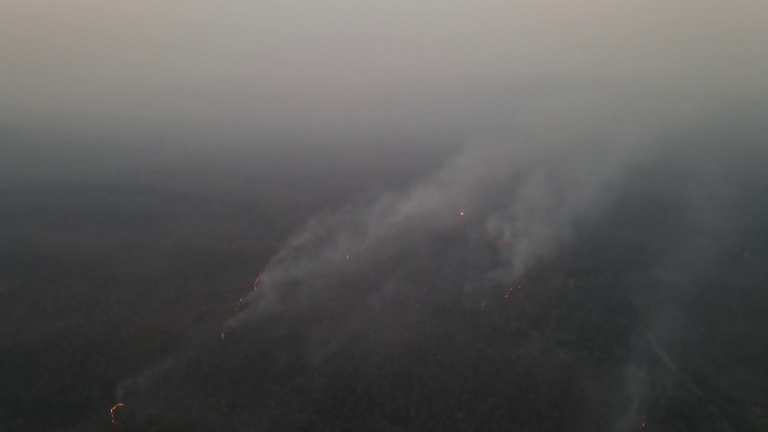fire: (458, 277, 527, 312), (234, 270, 267, 311), (104, 401, 124, 426), (636, 403, 651, 432), (218, 323, 227, 345), (457, 210, 469, 220), (345, 252, 351, 260)
smoke: (233, 107, 601, 333), (620, 287, 686, 428), (117, 352, 177, 413)
